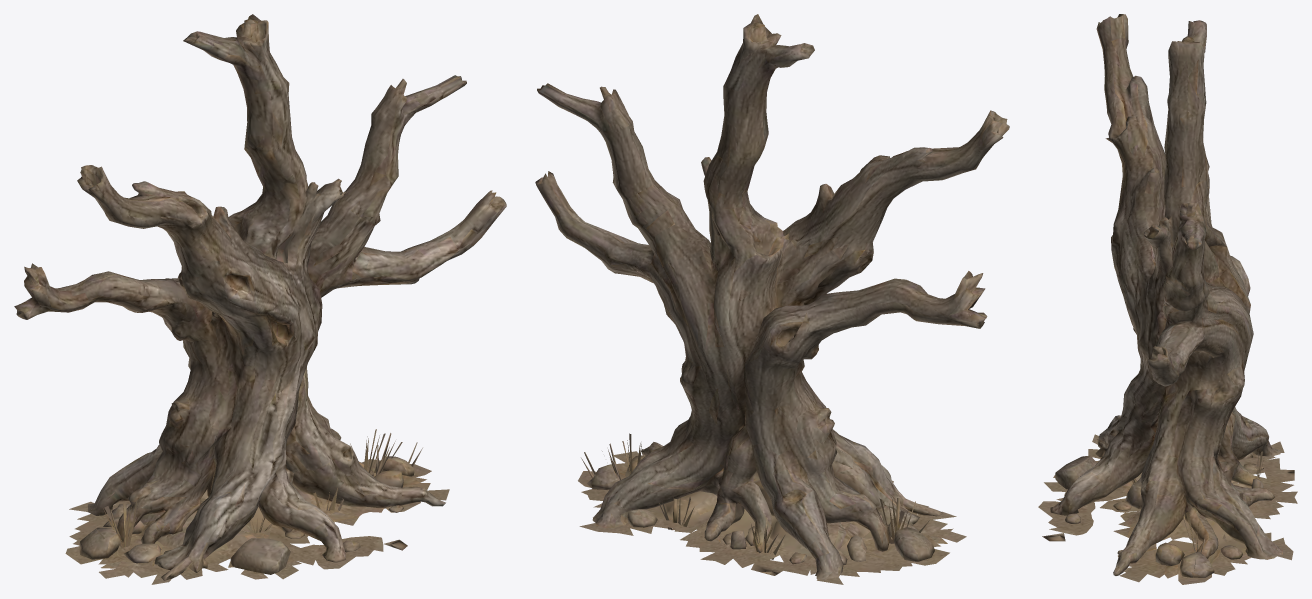
File: tree_dead_a.glb
3 renders of one model, left to right at view 1: azimuth 30°, elevation 25°; view 2: azimuth 150°, elevation 25°; view 3: azimuth 270°, elevation 25°, orthographic. The views are drawn at different scales.
Bounding box in the file's own units: 0.4512 × 0.4604 × 0.23.
1 material, 1 textured.
